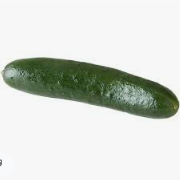Kumquat: (12, 11, 180, 180)
